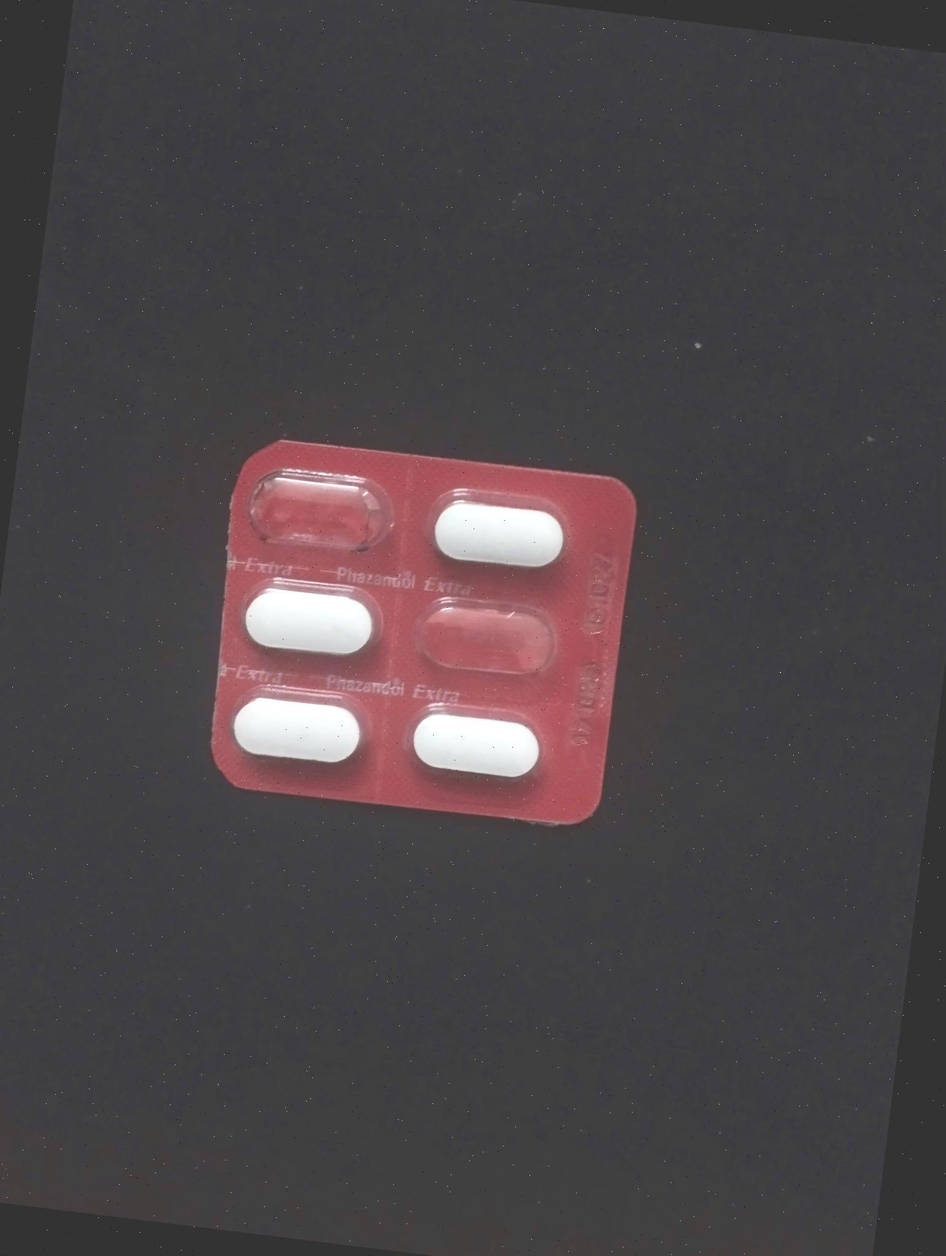Empty: (406, 590, 559, 692), (244, 470, 388, 565)
Full: (235, 578, 388, 680), (396, 704, 556, 794), (427, 496, 574, 582), (221, 690, 364, 770)
